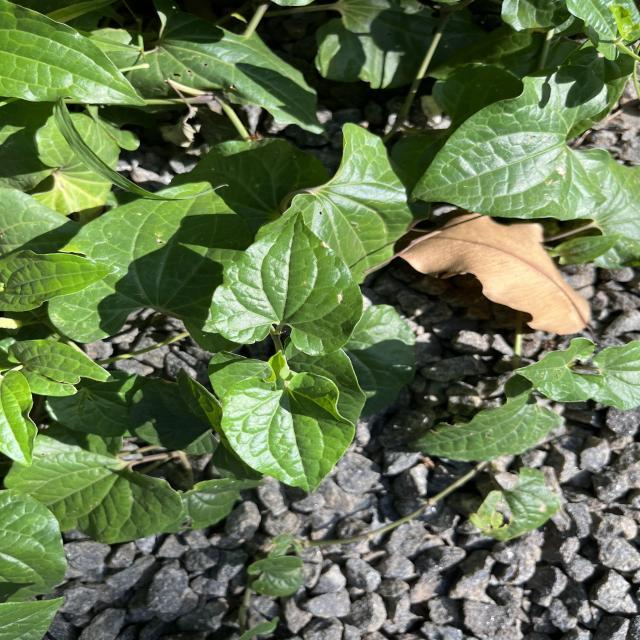Piper longum: (403, 61, 618, 224), (208, 208, 366, 358), (218, 370, 356, 496)
